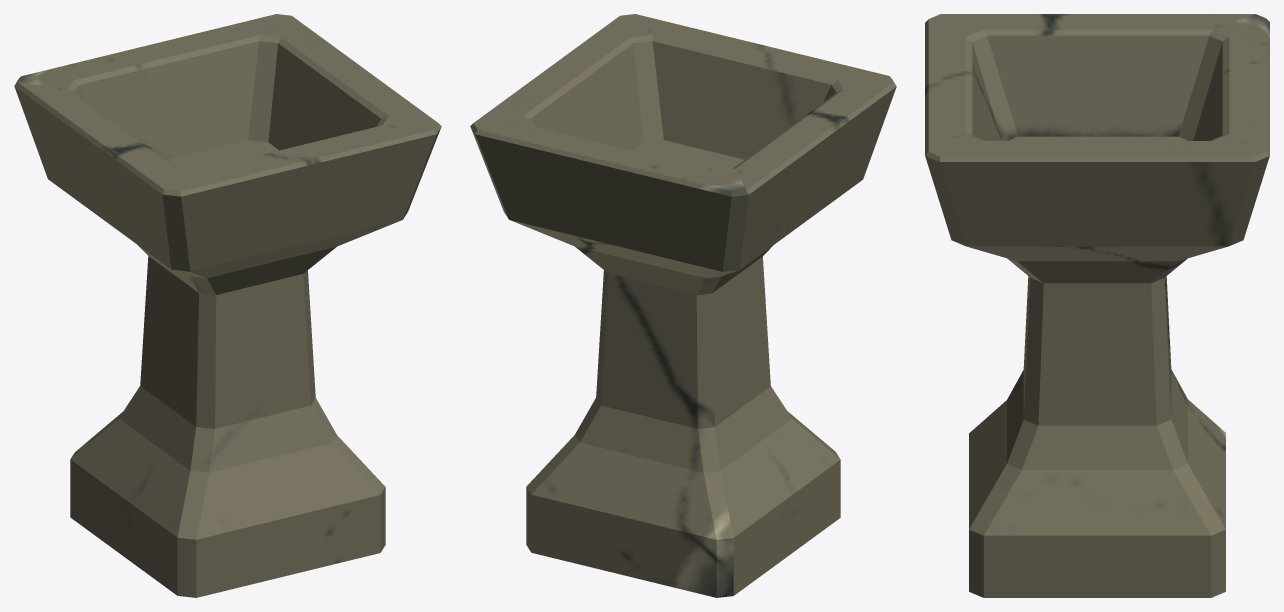
Rendered from fountainNew.fbx.
3 views of the same model, side by side, from view 1: azimuth 30°, elevation 25°; view 2: azimuth 150°, elevation 25°; view 3: azimuth 270°, elevation 25° (orthographic). The views are drawn at different scales.
Visible parts, largest first — view 1: fountain; view 2: fountain; view 3: fountain.
Part boxes in pixels (left/top/right/bottom): fountain: left=14, top=14, right=441, bottom=597; fountain: left=470, top=14, right=896, bottom=597; fountain: left=925, top=14, right=1269, bottom=597.
Size of the model in its own units: 0.6576 by 0.9644 by 0.6576.
